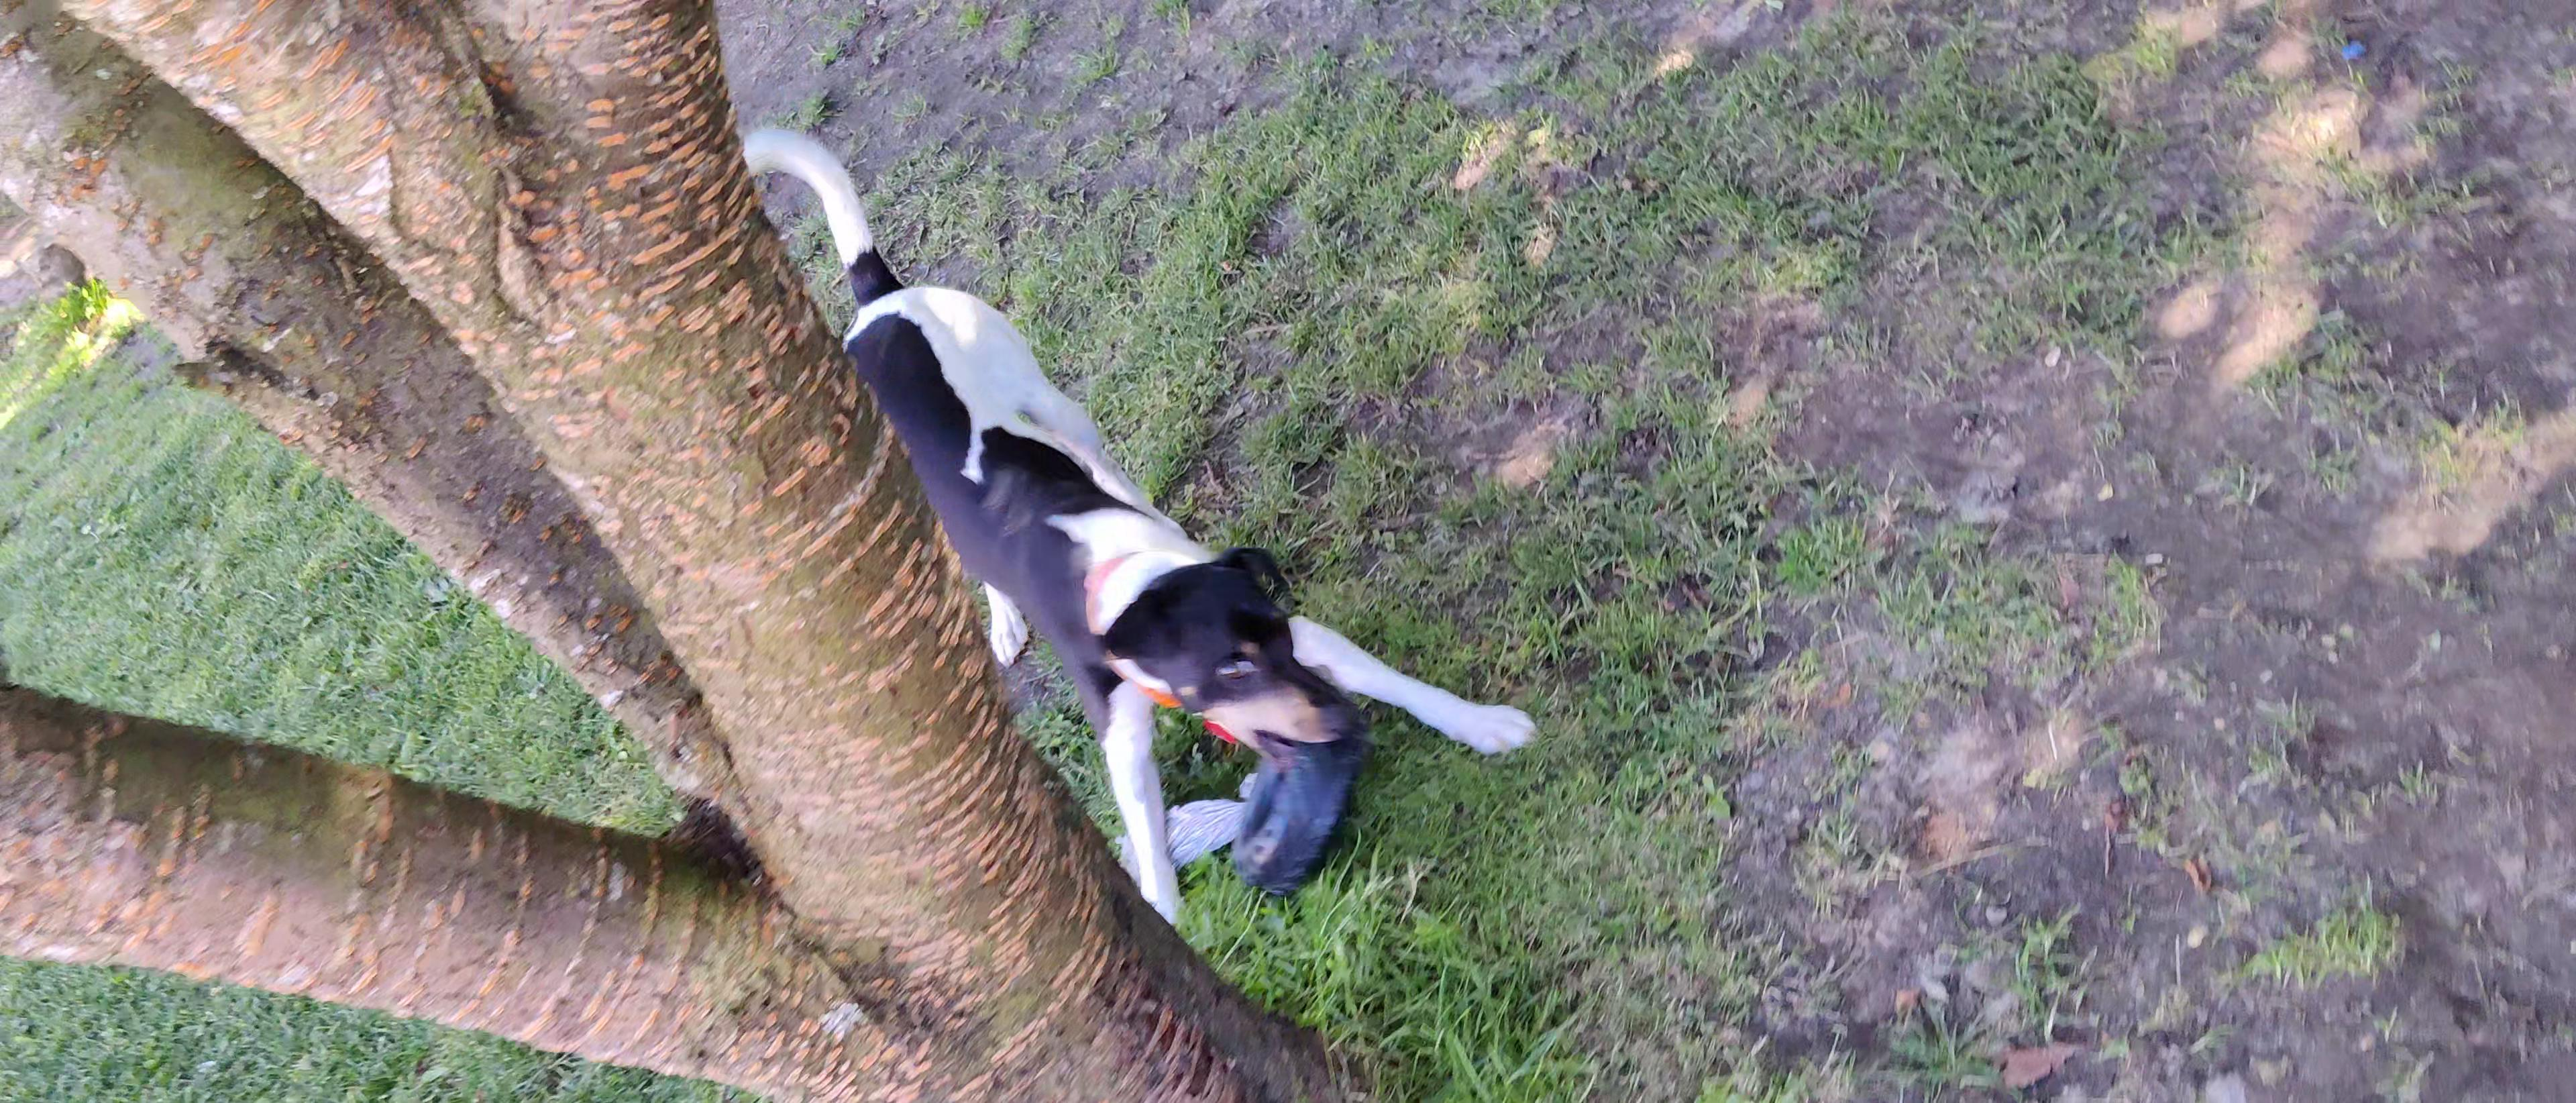Dog: (695, 102, 1546, 960)
